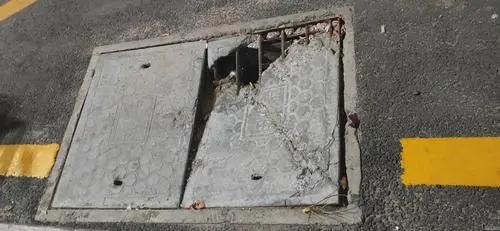wellcover: (35, 18, 372, 216)
